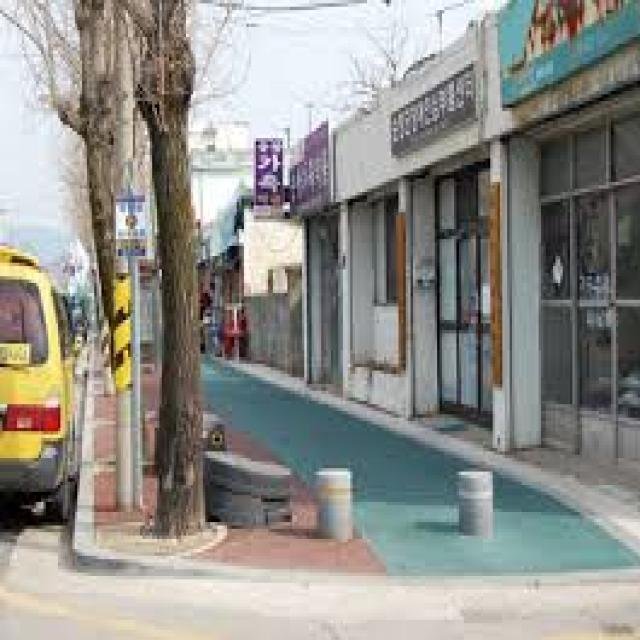bollard: (451, 458, 508, 550), (311, 462, 363, 557)
